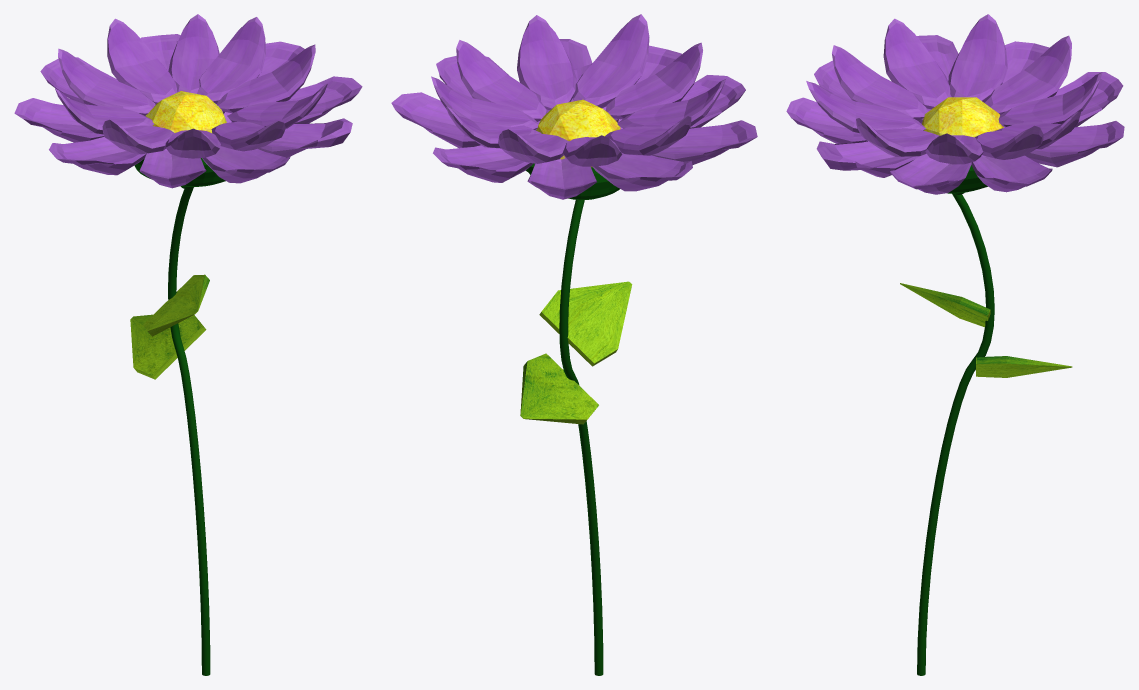
File: flower.obj
3 views of the same model, side by side, from view 1: azimuth 30°, elevation 25°; view 2: azimuth 150°, elevation 25°; view 3: azimuth 270°, elevation 25° (orthographic). The views are drawn at different scales.
Parts seen in each view (by area): view 1: BezierCurve, Cube.003, Cube.019, Cube.018, Cube.012, Cube.001, Cube.020, Icosphere, Cube.005, Cube.008, Cube, Cube.006 (+12 smaller); view 2: Cube.002, BezierCurve, Cube.016, Cube.017, Cube.001, Cube.018, Cube.015, Cube.005, Cube.006, Icosphere, Cube.009, Cube.010 (+12 smaller); view 3: BezierCurve, Cube.013, Cube.014, Cube.012, Cube.015, Icosphere, Cube.016, Cube.009, Cube.003, Cube.008, Cube.010, Cube.011 (+11 smaller).
Part boxes in pixels (x1,y1,x2,y2): BezierCurve: [168, 187, 210, 675]; Cube.003: [107, 18, 177, 104]; Cube.019: [197, 17, 265, 103]; Cube.018: [216, 44, 315, 113]; Cube.012: [58, 48, 155, 115]; Cube.001: [130, 314, 206, 379]; Cube.020: [168, 14, 219, 93]; Icosphere: [145, 91, 226, 132]; Cube.005: [49, 136, 145, 175]; Cube.008: [258, 118, 352, 156]; Cube: [202, 146, 290, 183]; Cube.006: [14, 98, 104, 142]; Cube.002: [539, 281, 632, 366]; BezierCurve: [559, 200, 603, 675]; Cube.016: [573, 14, 649, 108]; Cube.017: [517, 15, 576, 110]; Cube.001: [520, 353, 598, 424]; Cube.018: [456, 40, 546, 121]; Cube.015: [605, 42, 702, 119]; Cube.005: [652, 120, 757, 164]; Cube.006: [592, 153, 692, 191]; Icosphere: [536, 99, 620, 167]; Cube.009: [433, 145, 533, 182]; Cube.010: [391, 92, 535, 148]; BezierCurve: [917, 193, 994, 675]; Cube.013: [948, 14, 1007, 102]; Cube.014: [883, 18, 950, 109]; Cube.012: [984, 35, 1071, 115]; Cube.015: [832, 45, 926, 120]; Icosphere: [922, 97, 1003, 137]; Cube.016: [806, 81, 926, 133]; Cube.009: [1025, 121, 1124, 167]; Cube.003: [998, 72, 1102, 127]; Cube.008: [816, 141, 918, 177]; Cube.010: [971, 155, 1052, 192]; Cube.011: [890, 153, 971, 194].
Size of the model in its own units: 3.48 by 6.47 by 3.3.
Materials: 5 (3 with a texture image).
